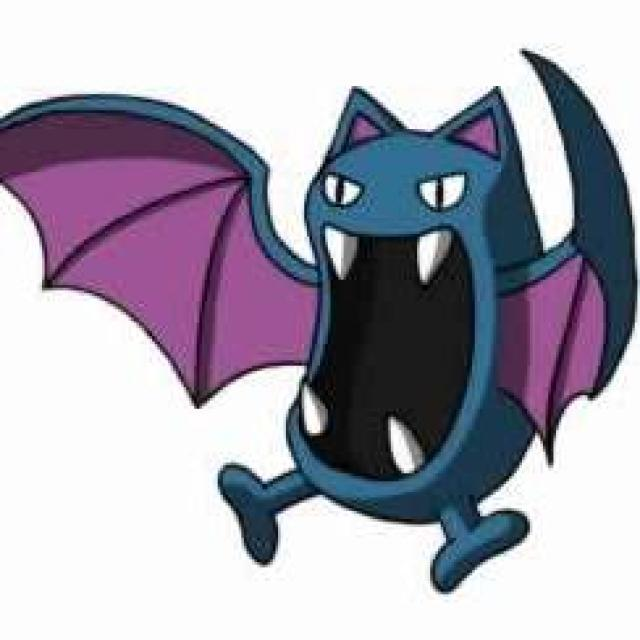Golbat: (146, 72, 604, 540)
